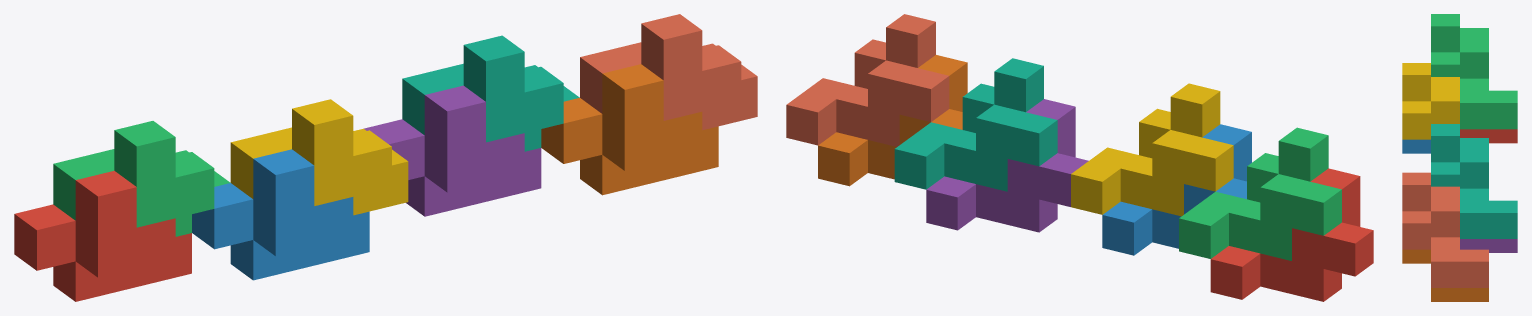
The model's file is tiling.obj.
3 renders of one model, left to right at view 1: azimuth 30°, elevation 25°; view 2: azimuth 150°, elevation 25°; view 3: azimuth 270°, elevation 25°, orthographic. The views are drawn at different scales.
Parts seen in each view (by area): view 1: copy_1_domain_1, copy_1_domain_2, copy_1_domain_6, copy_1_domain_5, copy_1_domain_4, copy_1_domain_8, copy_1_domain_3, copy_1_domain_7; view 2: copy_1_domain_7, copy_1_domain_8, copy_1_domain_4, copy_1_domain_3, copy_1_domain_1, copy_1_domain_5, copy_1_domain_6, copy_1_domain_2; view 3: copy_1_domain_8, copy_1_domain_3, copy_1_domain_7, copy_1_domain_4, copy_1_domain_6, copy_1_domain_5, copy_1_domain_1, copy_1_domain_2.
Boxes of the visible parts, x1,y1,x2,y2 form: copy_1_domain_1: (14, 170, 191, 301); copy_1_domain_2: (192, 149, 369, 280); copy_1_domain_6: (541, 64, 718, 195); copy_1_domain_5: (364, 85, 541, 216); copy_1_domain_4: (230, 99, 408, 215); copy_1_domain_8: (580, 14, 757, 130); copy_1_domain_3: (53, 121, 230, 236); copy_1_domain_7: (402, 35, 579, 151); copy_1_domain_7: (894, 58, 1057, 191); copy_1_domain_8: (786, 14, 949, 146); copy_1_domain_4: (1071, 83, 1233, 216); copy_1_domain_3: (1179, 127, 1341, 260); copy_1_domain_1: (1210, 168, 1373, 301); copy_1_domain_5: (926, 99, 1088, 232); copy_1_domain_6: (818, 55, 967, 186); copy_1_domain_2: (1102, 124, 1251, 255); copy_1_domain_8: (1402, 172, 1488, 287); copy_1_domain_3: (1431, 14, 1517, 129); copy_1_domain_7: (1431, 124, 1517, 238); copy_1_domain_4: (1402, 63, 1459, 139); copy_1_domain_6: (1402, 249, 1488, 301); copy_1_domain_5: (1460, 239, 1517, 252); copy_1_domain_1: (1460, 129, 1517, 143); copy_1_domain_2: (1402, 139, 1430, 153).
Size of the model in its own units: 18 by 4 by 4.
